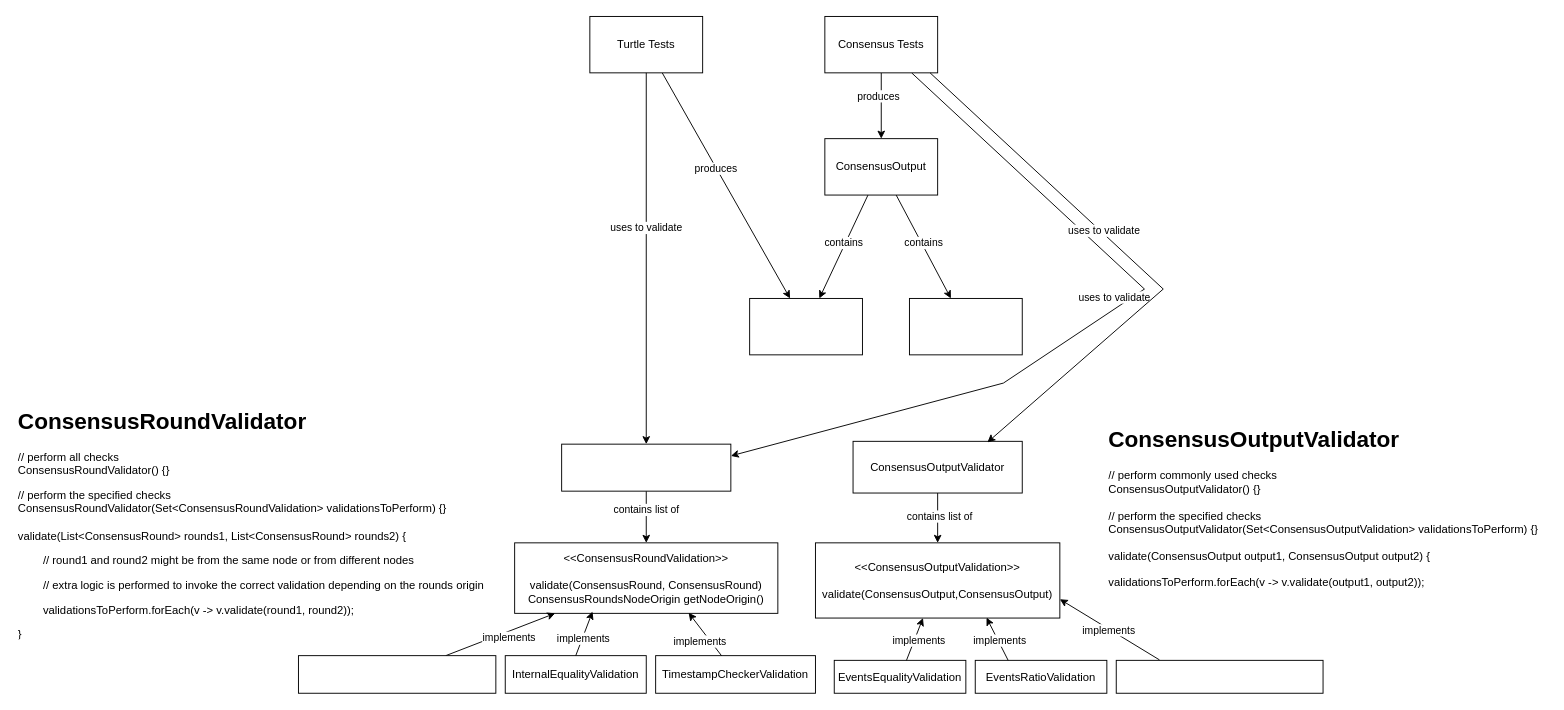
Image size: 1564x710. Some labels were removed from this diagram. The centre of each missing label's shape, as x and y in pixels:
"AncientThresholdIncreaseValidation" belongs at (x=397, y=674).
"ConsensusRound" belongs at (x=805, y=326).
"ConsensusRoundValidator" belongs at (x=646, y=467).
"EventsAddedInDifferentOrderValidation" belongs at (x=1219, y=676).
"other data" belongs at (x=965, y=326).
